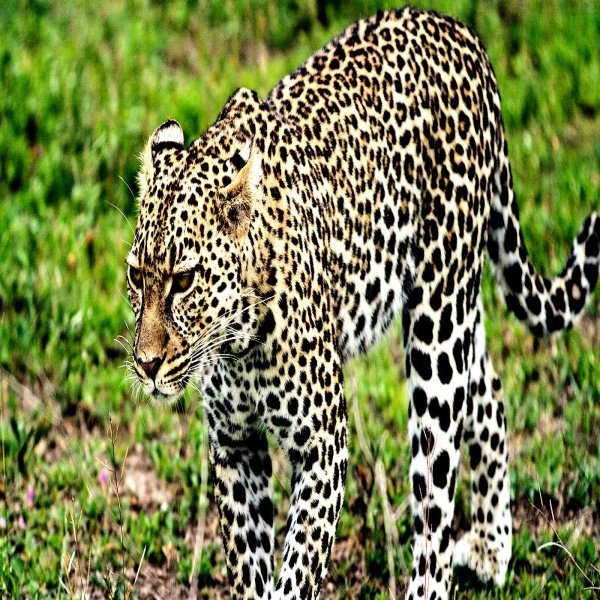Leopard: (121, 8, 600, 599)
